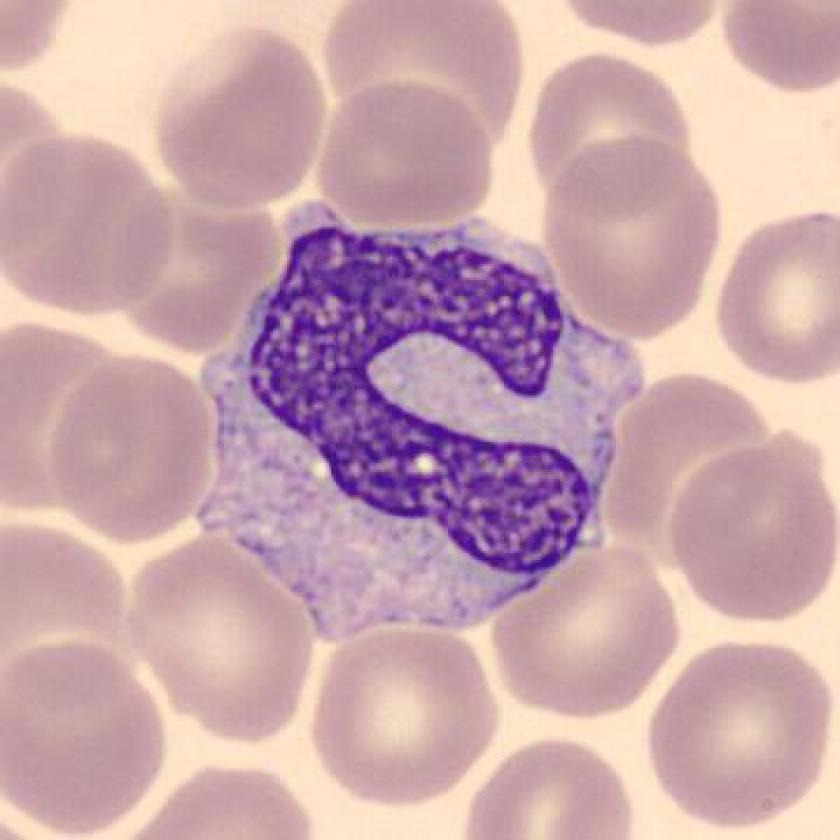monocyte: (178, 179, 664, 661)
